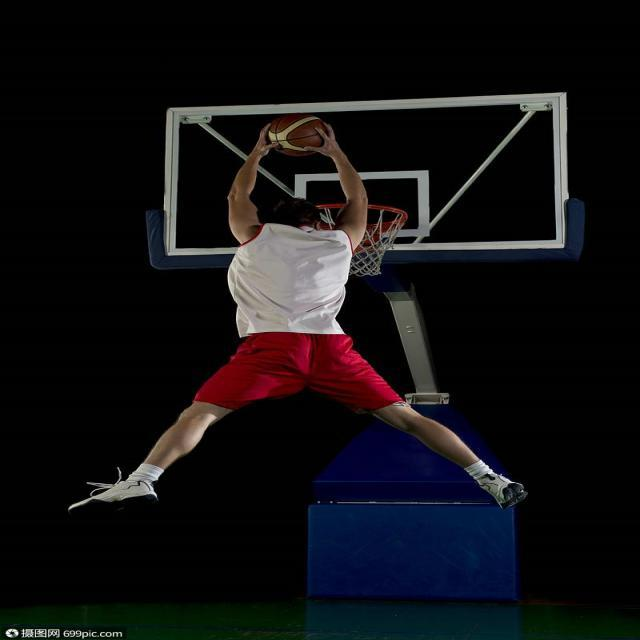rim: (270, 108, 332, 156)
